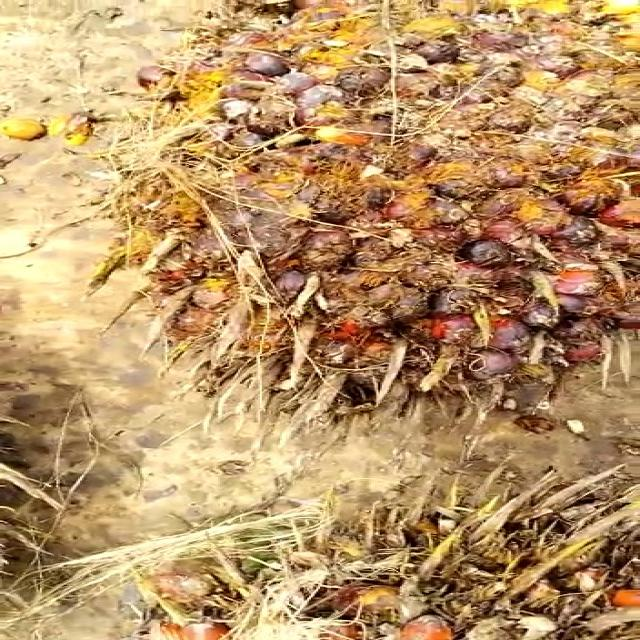palm oil: (121, 0, 640, 430)
